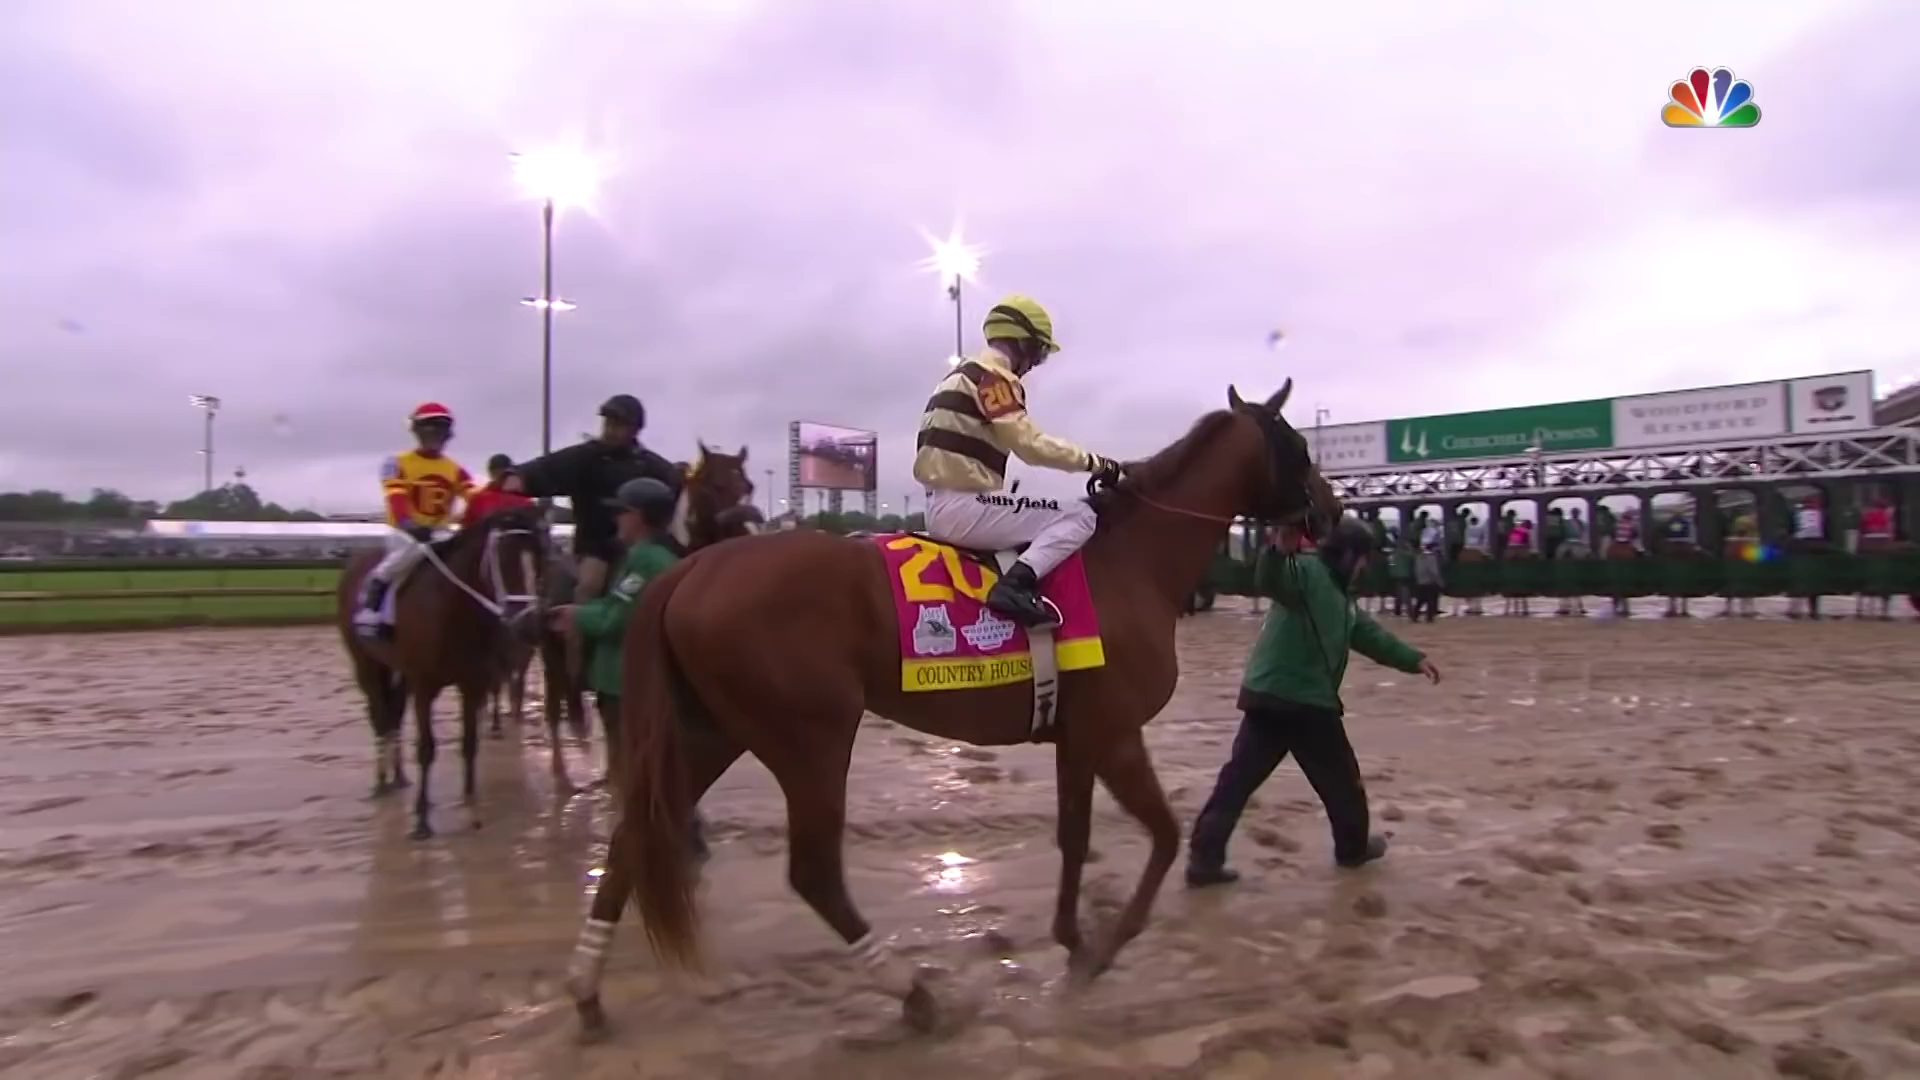jockey: (915, 299, 1105, 636), (520, 394, 684, 622), (361, 401, 475, 613)
